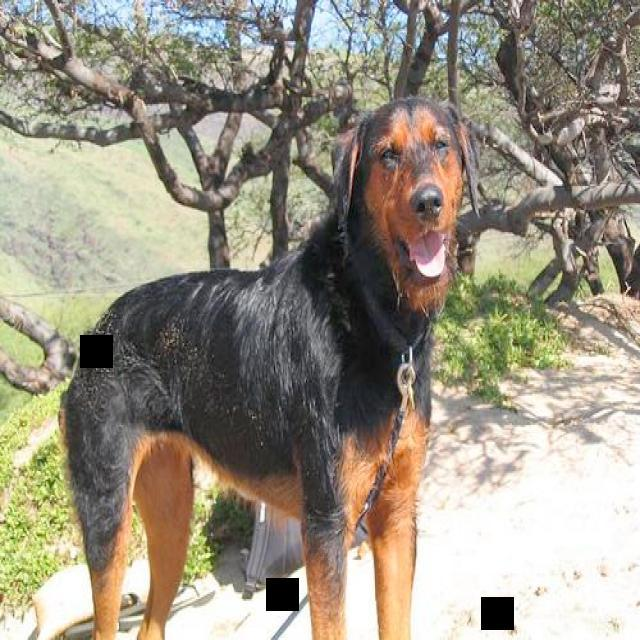adult_dog: (60, 93, 481, 640)
